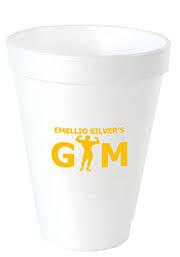Plastic cup: (4, 9, 176, 257)
